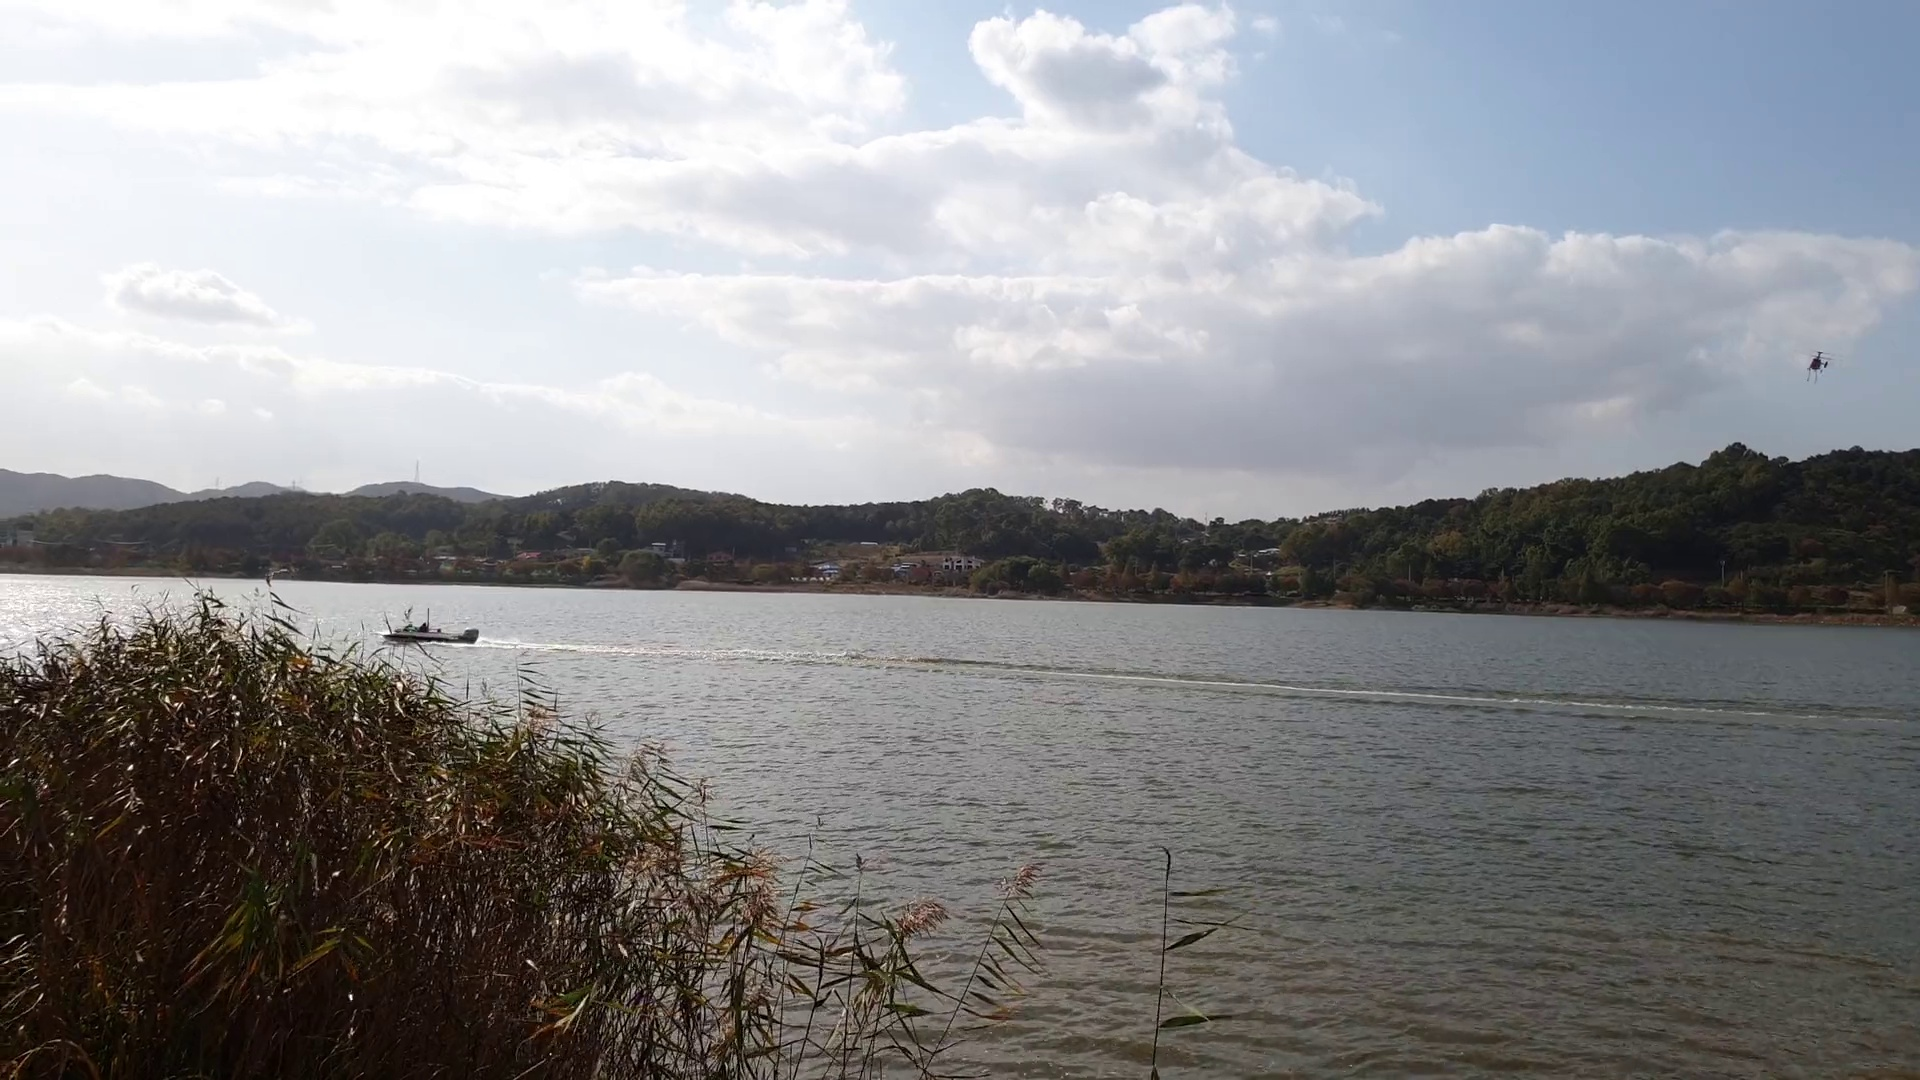heli: (1807, 349, 1832, 373)
